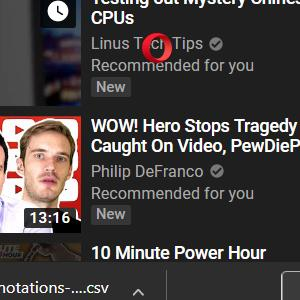opera: (141, 32, 173, 63)
